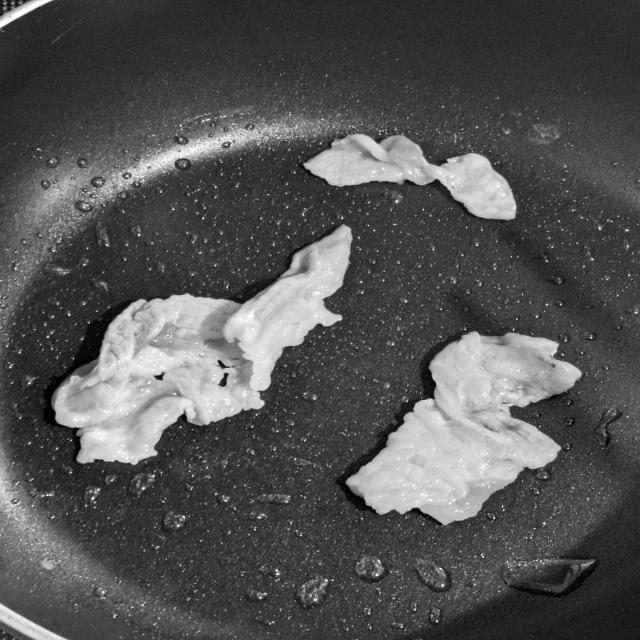NG undercooked pork,: (49, 219, 379, 473), (324, 322, 598, 532), (285, 124, 531, 230)
